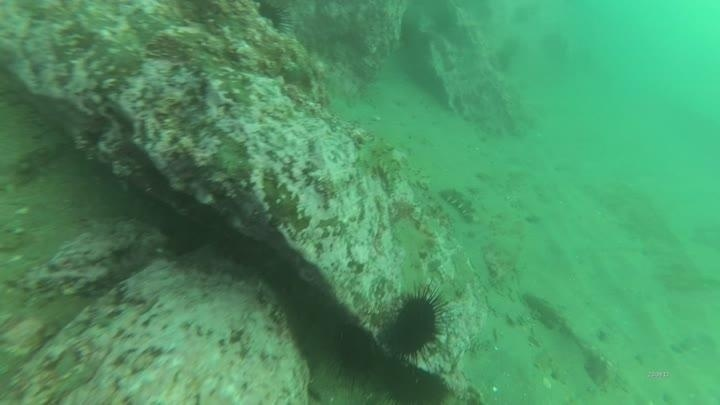echinus: (381, 286, 450, 365), (372, 356, 451, 404), (328, 321, 381, 379), (250, 1, 310, 35)
holothurian: (1, 121, 79, 194), (350, 131, 404, 194), (437, 184, 483, 226)
